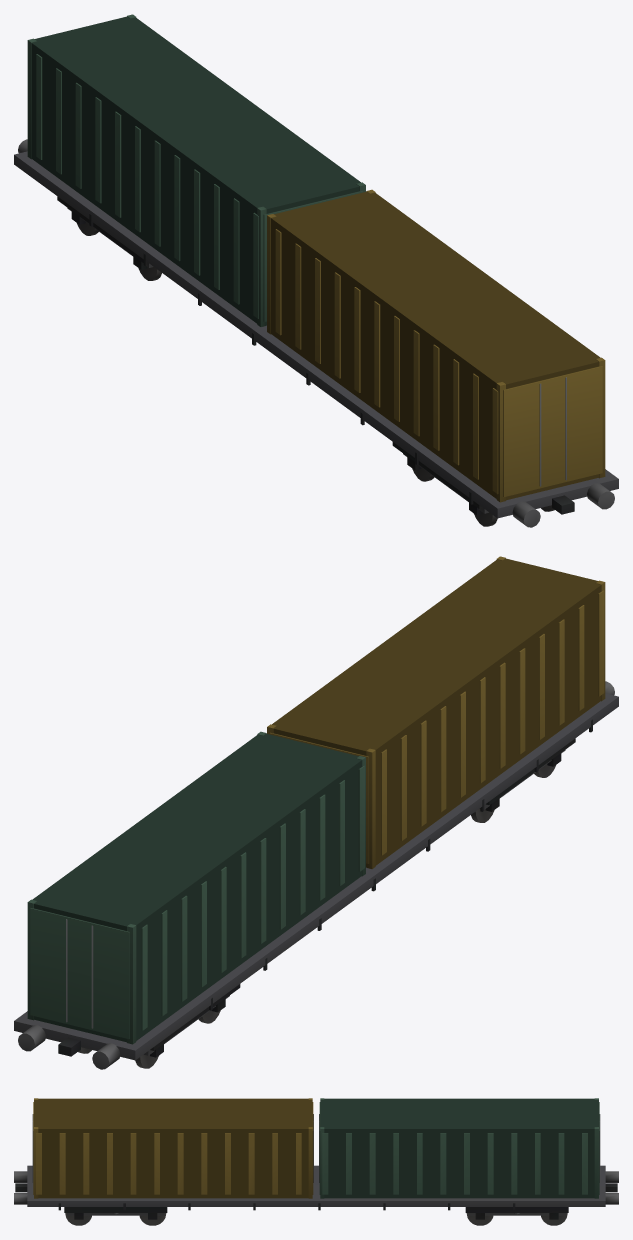
The model's file is wagen_container1.glb.
The picture shows the model from 3 angles, top to bottom: view 1: azimuth 30°, elevation 25°; view 2: azimuth 150°, elevation 25°; view 3: azimuth 270°, elevation 25°; orthographic projection. The views are drawn at different scales.
Parts seen in each view (by area): view 1: lack; view 2: lack; view 3: lack.
Boxes of the visible parts, left/top/right/bottom form: lack: left=14, top=14, right=618, bottom=527; lack: left=14, top=556, right=618, bottom=1069; lack: left=14, top=1098, right=618, bottom=1225.
Bounding box in the file's own units: 2.85 × 3.83 × 20.5.
